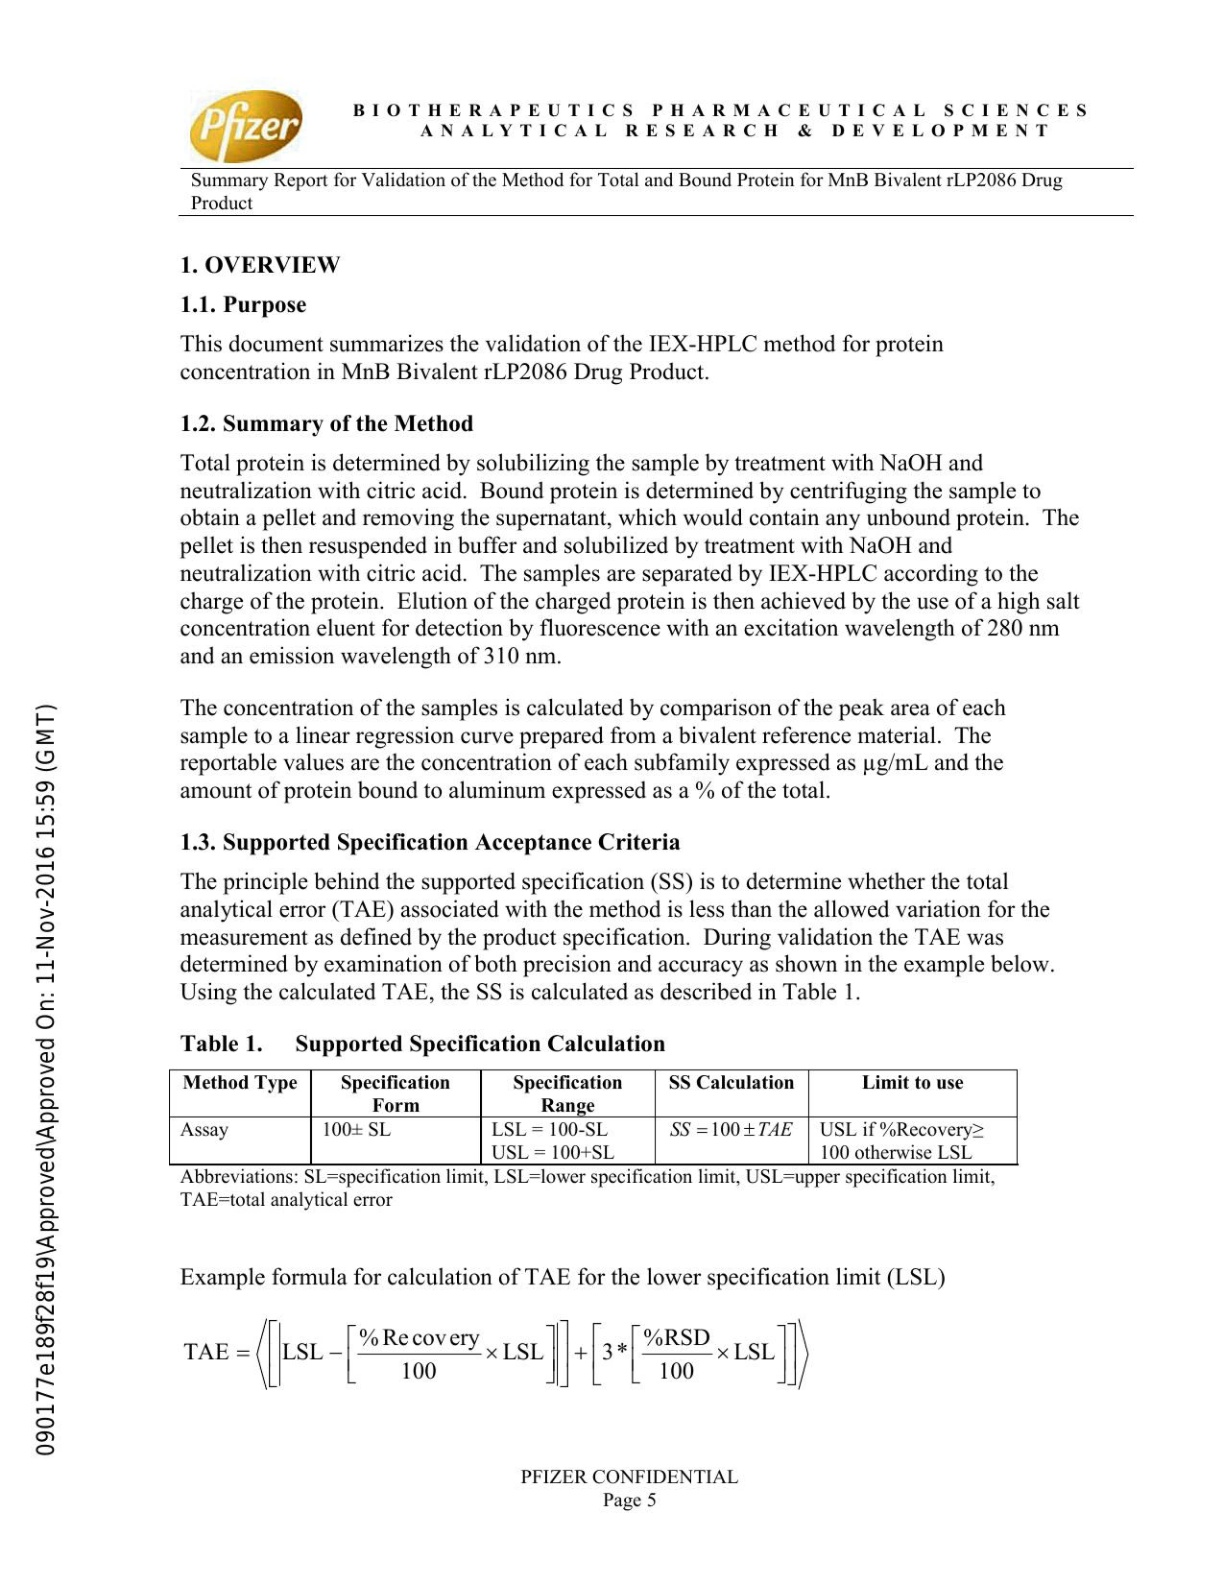full_lined: (167, 1068, 1020, 1166)
